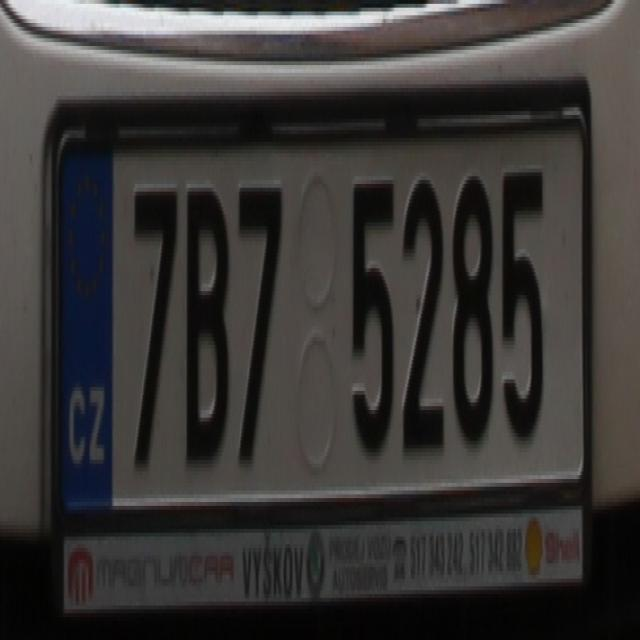2: (399, 172, 444, 464)
5: (498, 161, 544, 445), (350, 172, 394, 448)
7: (235, 184, 284, 471), (130, 180, 178, 464)
8: (453, 172, 495, 448)
B: (185, 176, 231, 472)
